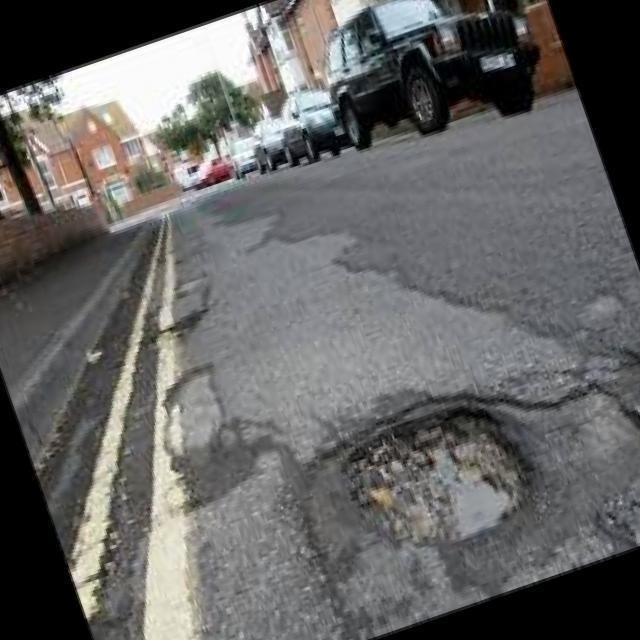pothole: (318, 378, 542, 564)
